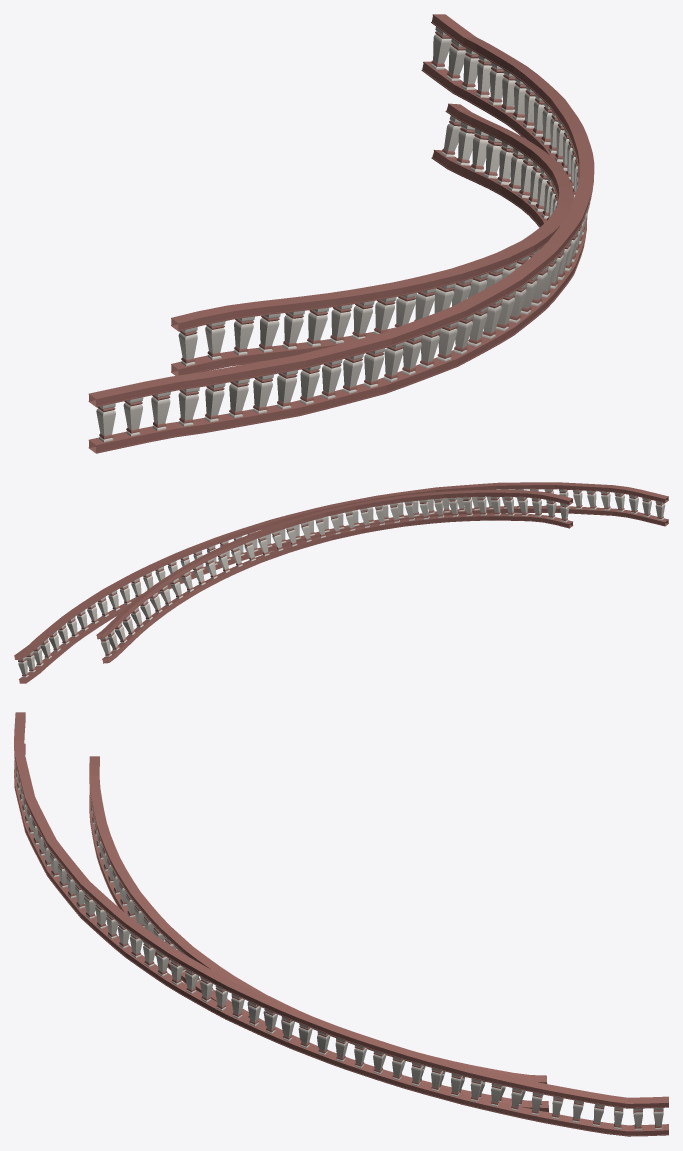
Rendered from MOD_Stairs.fbx.
3 views of the same model, one above another, from view 1: azimuth 30°, elevation 25°; view 2: azimuth 150°, elevation 25°; view 3: azimuth 270°, elevation 25° (orthographic). The views are drawn at different scales.
Visible parts, largest first — view 1: SM_HekjeStairs_1, SM_HekjesStairs_0; view 2: SM_HekjeStairs_1, SM_HekjesStairs_0; view 3: SM_HekjeStairs_1, SM_HekjesStairs_0.
Part boxes in pixels (bbox=[...]): SM_HekjeStairs_1: bbox=[88, 14, 594, 453]; SM_HekjesStairs_0: bbox=[171, 103, 573, 375]; SM_HekjeStairs_1: bbox=[14, 482, 668, 683]; SM_HekjesStairs_0: bbox=[96, 489, 573, 663]; SM_HekjeStairs_1: bbox=[14, 712, 668, 1136]; SM_HekjesStairs_0: bbox=[89, 756, 548, 1112].
Size of the model in its own units: 15.9 by 4.21 by 15.97.
